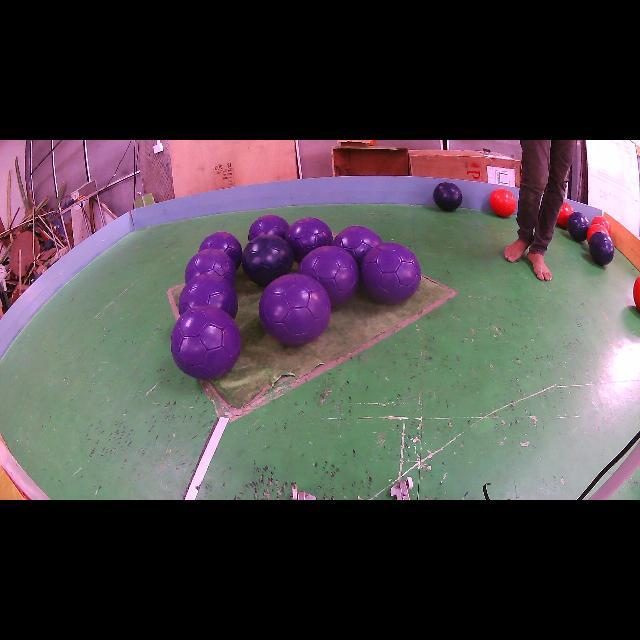B: (243, 235, 292, 283), (589, 231, 615, 266), (434, 182, 462, 211), (568, 211, 590, 241)
P: (171, 305, 241, 380), (259, 274, 331, 345), (298, 245, 359, 306), (361, 242, 421, 304), (179, 274, 238, 319), (284, 218, 332, 262), (332, 226, 382, 264), (185, 249, 236, 285), (199, 231, 243, 268), (248, 214, 289, 242)
R: (490, 189, 516, 216), (586, 224, 609, 242), (591, 216, 611, 235), (634, 276, 640, 311)
